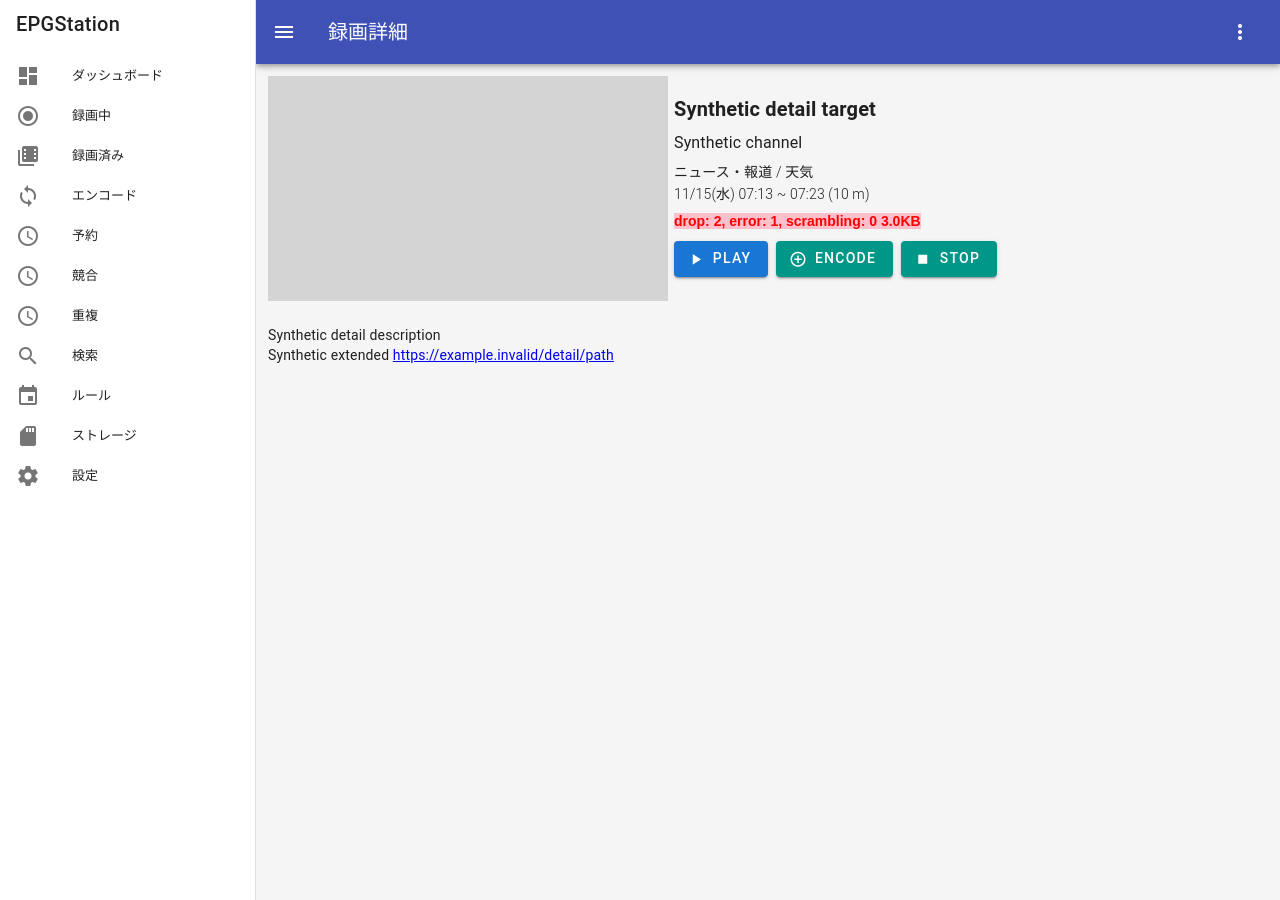
Scenario: Recorded detail route, data, and actions › [AC 2.18] [AC 2.19] [AC 2.20] [AC 3.17] [AC 3.19] reuses add encode and stop encode actions from the detail action buttons
Expected: the element with test id "recorded-detail-page" is shown, x1=268 y1=76 x2=997 y2=363
Click the button "encode".
click(834, 258)  # box x1=776 y1=240 x2=893 y2=276
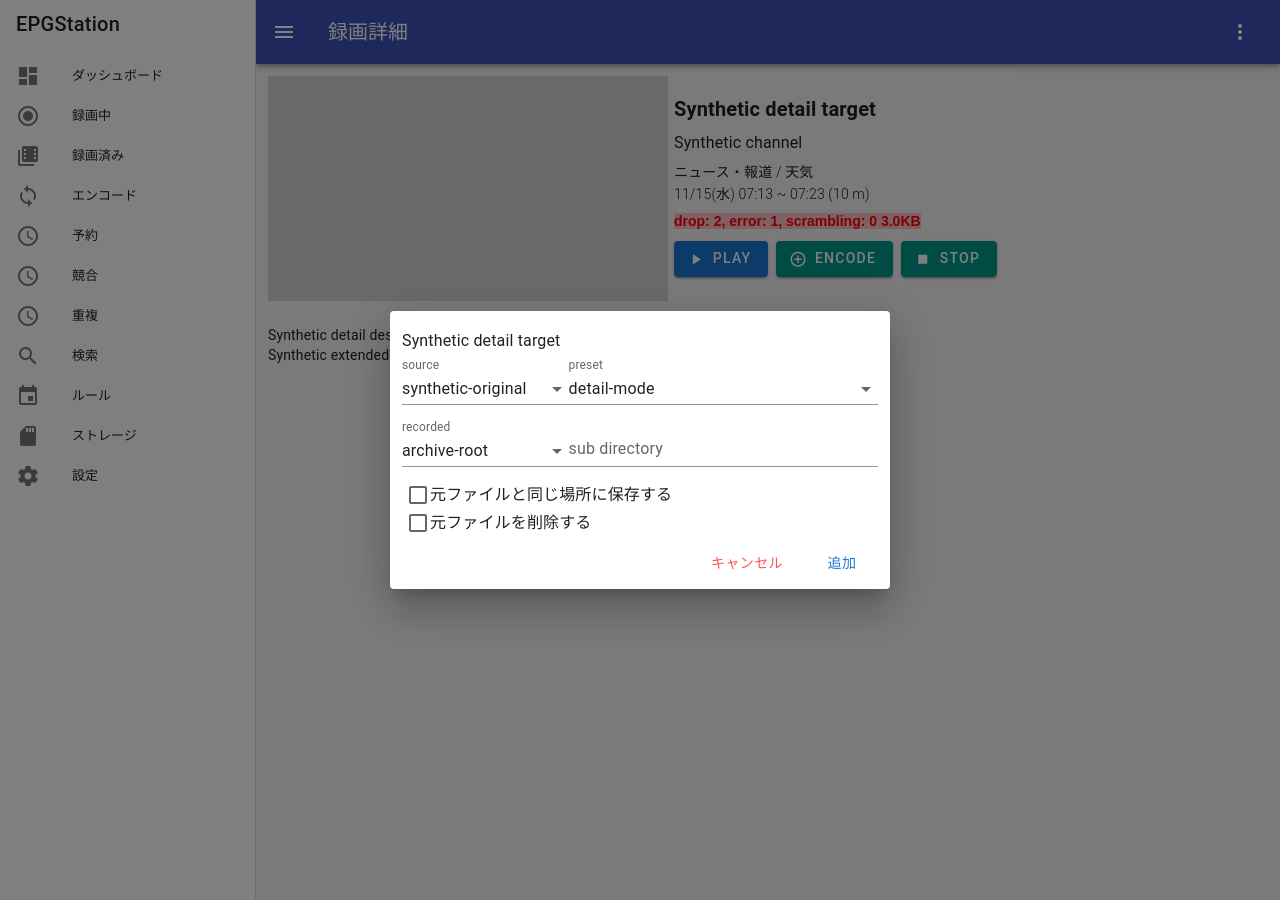
Expected: the heading "エンコード追加" is not shown
Result: the dialog named "エンコード追加" shows "Synthetic detail target" at x1=402 y1=331 x2=560 y2=350
Click the button "追加".
click(842, 563)  # box x1=810 y1=545 x2=874 y2=581
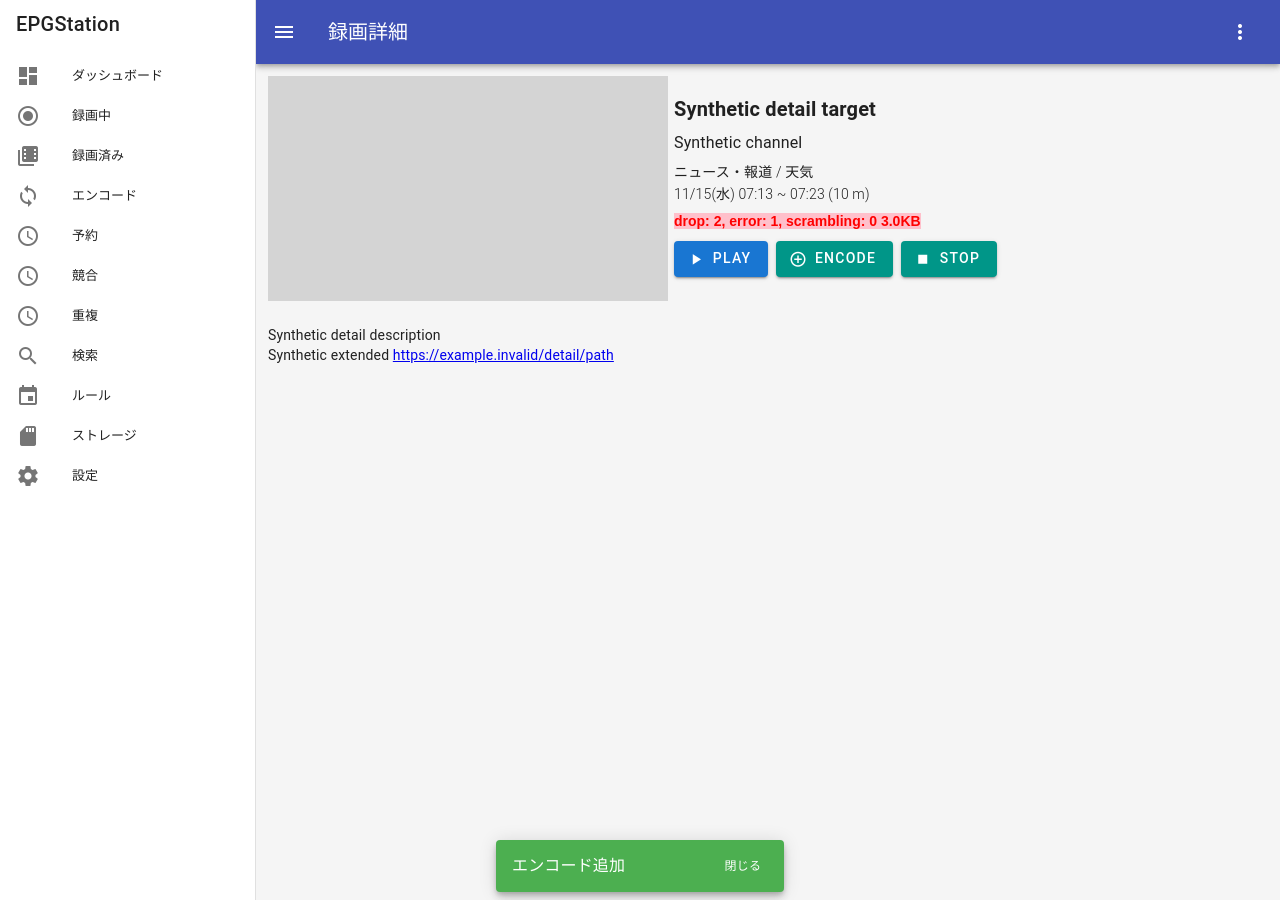
Result: the text "エンコード追加" is shown at x1=512 y1=856 x2=625 y2=875
Result: the dialog is gone
Click the button "stop".
click(949, 258)  # box x1=901 y1=240 x2=997 y2=276
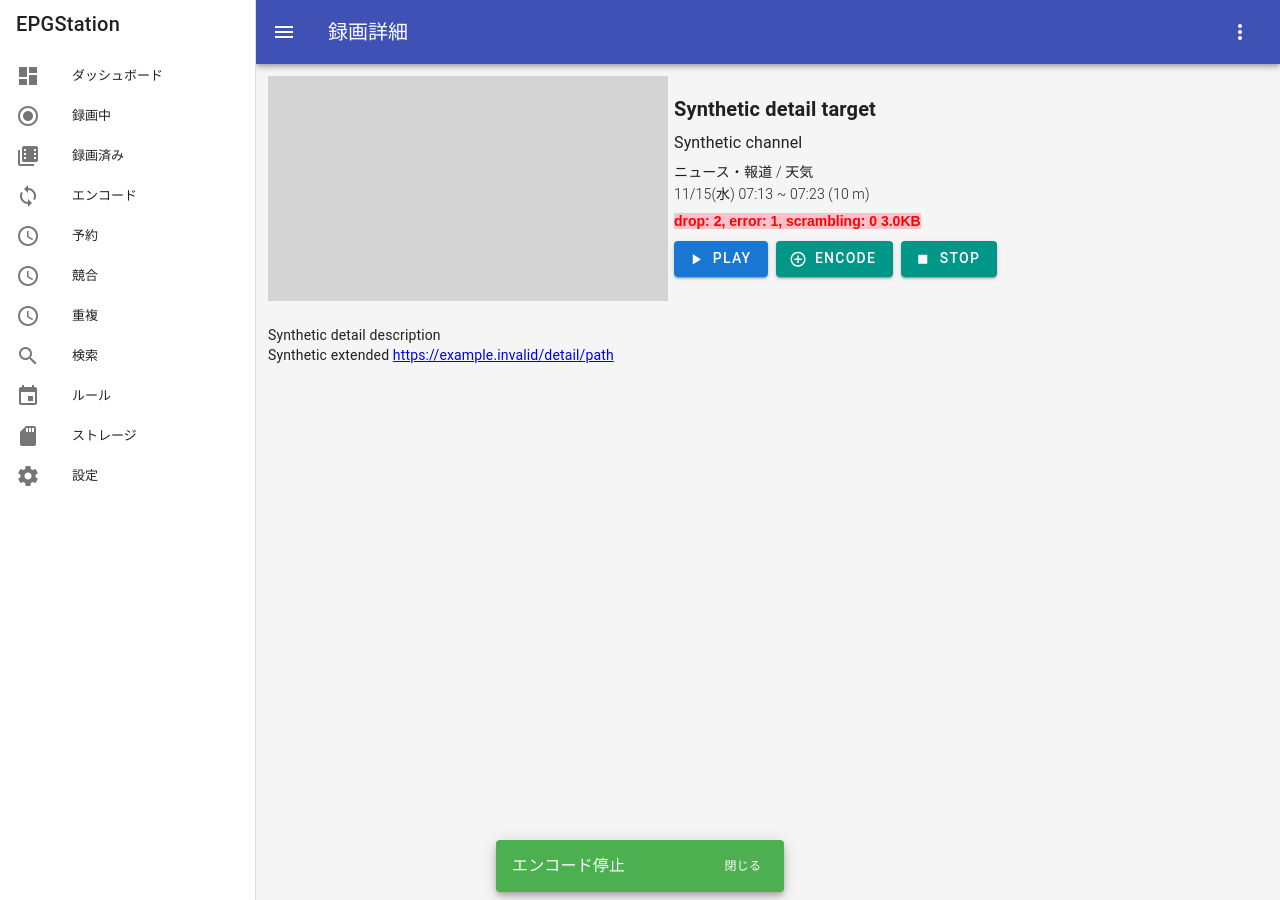
Result: the text "エンコード停止" is shown at x1=512 y1=856 x2=625 y2=875
